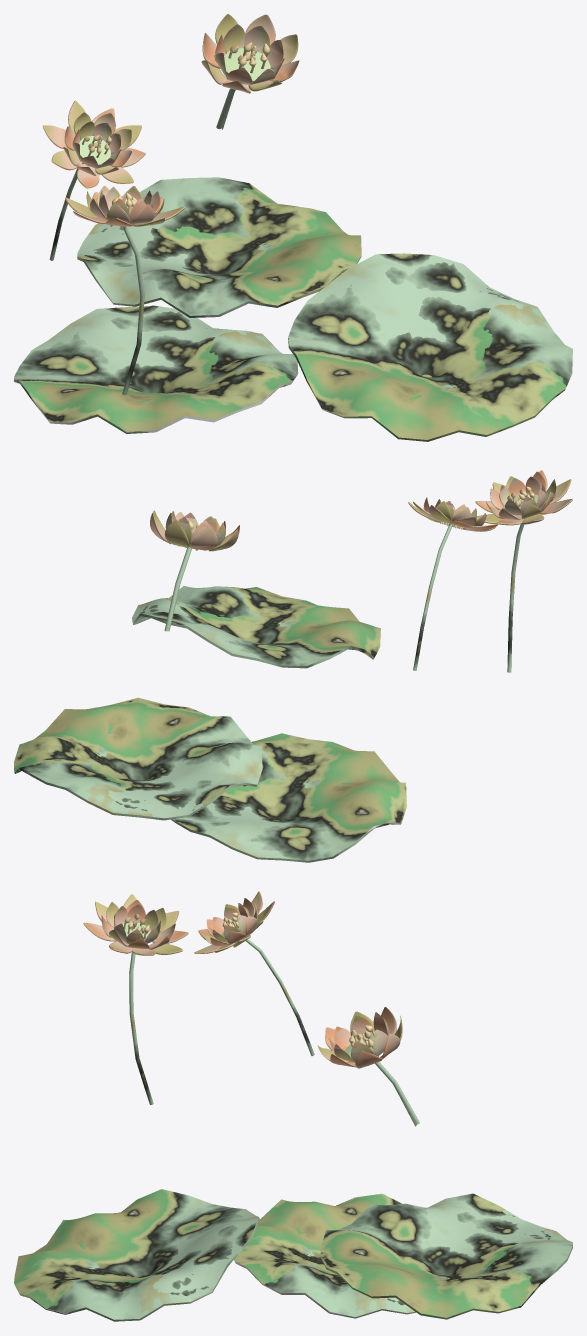
File: WaterLily.fbx
3 views of the same model, one above another, from view 1: azimuth 30°, elevation 25°; view 2: azimuth 150°, elevation 25°; view 3: azimuth 270°, elevation 25° (orthographic). The views are drawn at different scales.
Parts seen in each view (by area): view 1: 摄像朻; view 2: 摄像朻; view 3: 摄像朻.
Part boxes in pixels (x1,y1,x2,y2): 摄像朻: [14, 14, 572, 441]; 摄像朻: [14, 470, 572, 862]; 摄像朻: [14, 891, 572, 1321].
Bounding box in the file's own units: 636 × 457 × 714.
7 materials, 6 textured.
